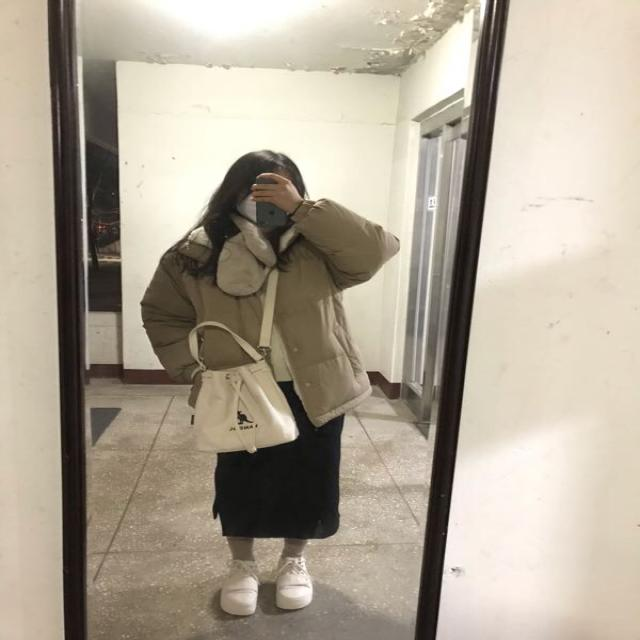padding: (142, 193, 402, 426)
skirt: (210, 376, 346, 537)
